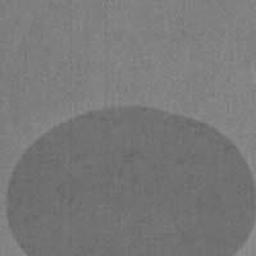Oil spot: (5, 104, 256, 256)
